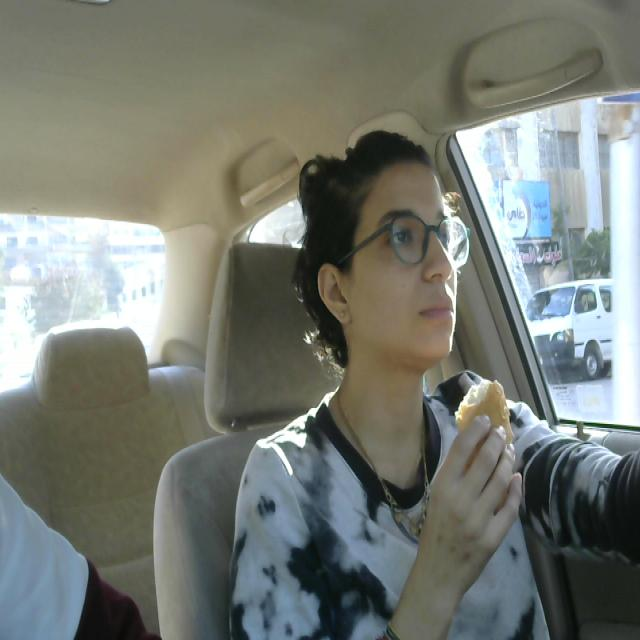eating: (446, 360, 520, 527)
